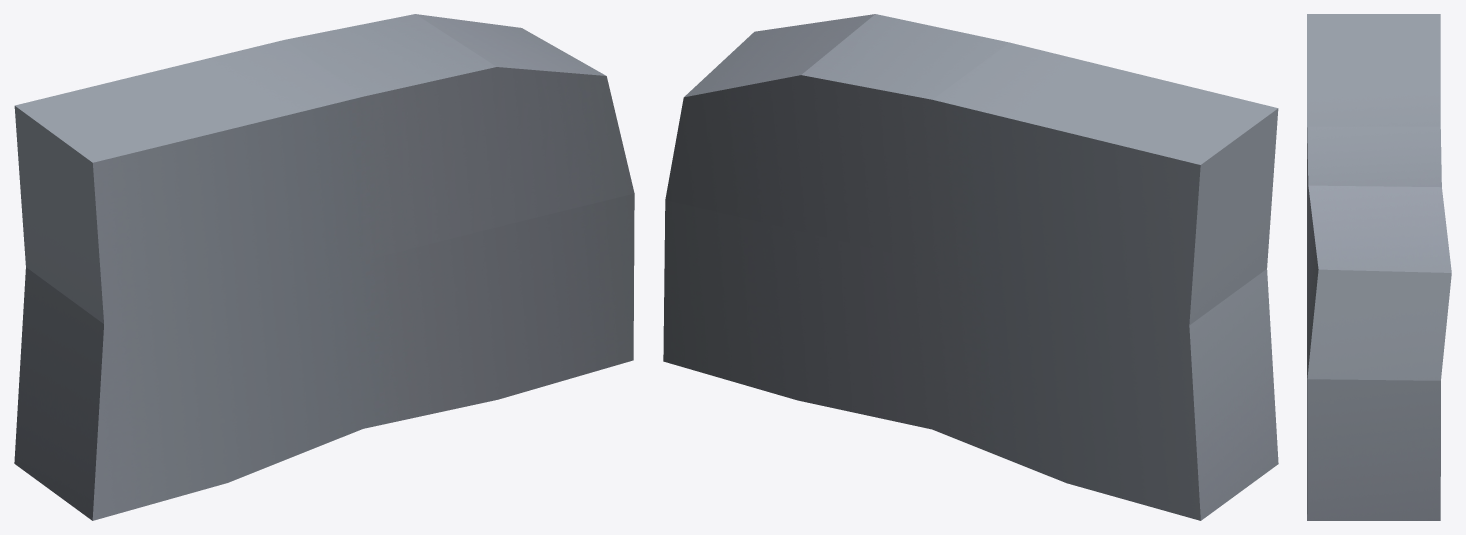
Rendered from Wall_Segement6.fbx.
The picture shows the model from 3 angles, left to right: view 1: azimuth 30°, elevation 25°; view 2: azimuth 150°, elevation 25°; view 3: azimuth 270°, elevation 25°; orthographic projection. The views are drawn at different scales.
Parts seen in each view (by area): view 1: Wall_Segement6; view 2: Wall_Segement6; view 3: Wall_Segement6.
Part boxes in pixels (x1,y1,x2,y2): Wall_Segement6: (14, 14, 634, 520); Wall_Segement6: (663, 14, 1278, 520); Wall_Segement6: (1307, 14, 1451, 520).
Bounding box in the file's own units: 1.17 × 0.7417 × 0.3178.
Materials: 1 (1 with a texture image).
